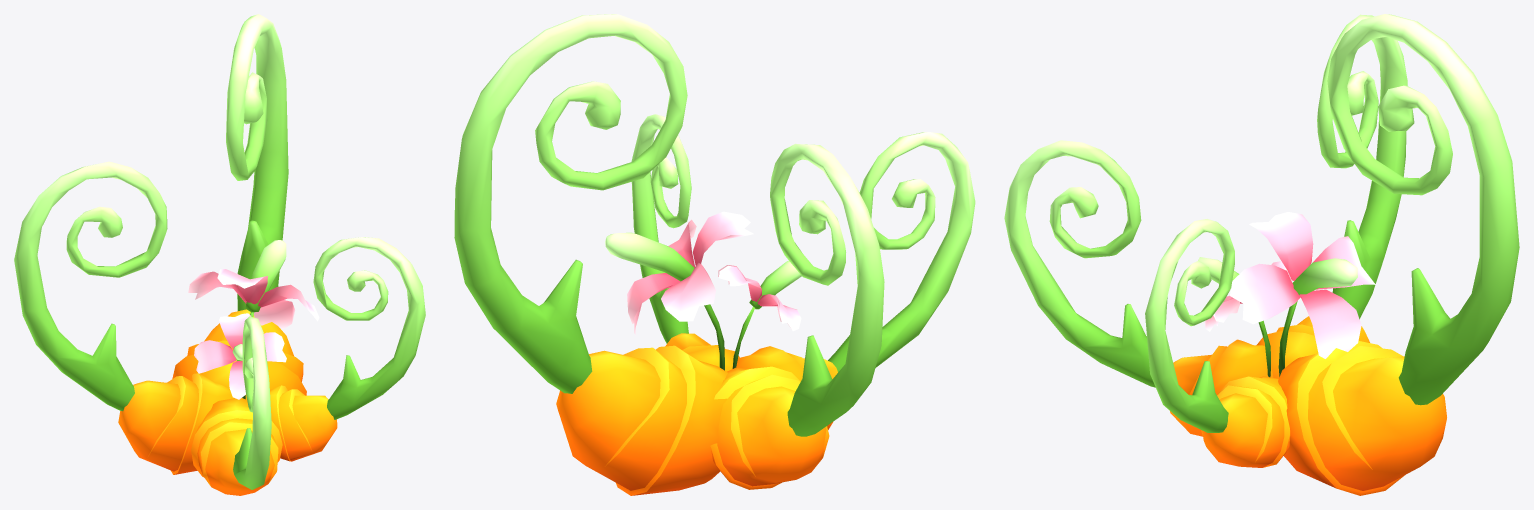
The model's file is moonroot_carrot.glb.
3 views of the same model, side by side, from view 1: azimuth 30°, elevation 25°; view 2: azimuth 150°, elevation 25°; view 3: azimuth 270°, elevation 25° (orthographic). The views are drawn at different scales.
Parts seen in each view (by area): view 1: Moonroot Carrot; view 2: Moonroot Carrot; view 3: Moonroot Carrot.
Boxes of the visible parts, box(x1,y1,x2,y2) form: Moonroot Carrot: box(14, 14, 425, 495); Moonroot Carrot: box(454, 14, 975, 495); Moonroot Carrot: box(1004, 14, 1519, 495).
Size of the model in its own units: 1.27 by 1.55 by 1.5.
1 material, 1 textured.
